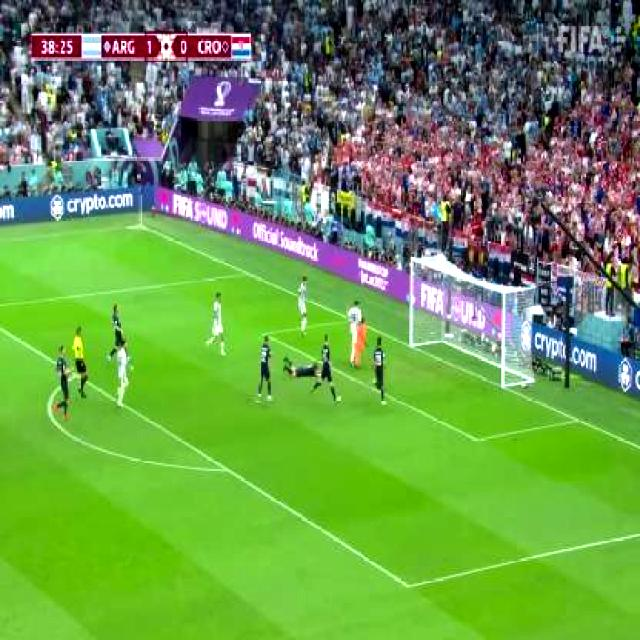bigarea_bottom_inner: (394, 563, 423, 609)
bigarea_top_outter: (241, 266, 254, 282)
bottom_arc_area_intersection: (214, 452, 240, 488)
corner: (136, 222, 144, 232)
smallarea_bottom_inner: (469, 430, 486, 452)
smallarea_bottom_outter: (569, 409, 585, 431)
smallarea_top_inner: (263, 331, 274, 340)
top_arc_area_intersection: (72, 369, 80, 383)
